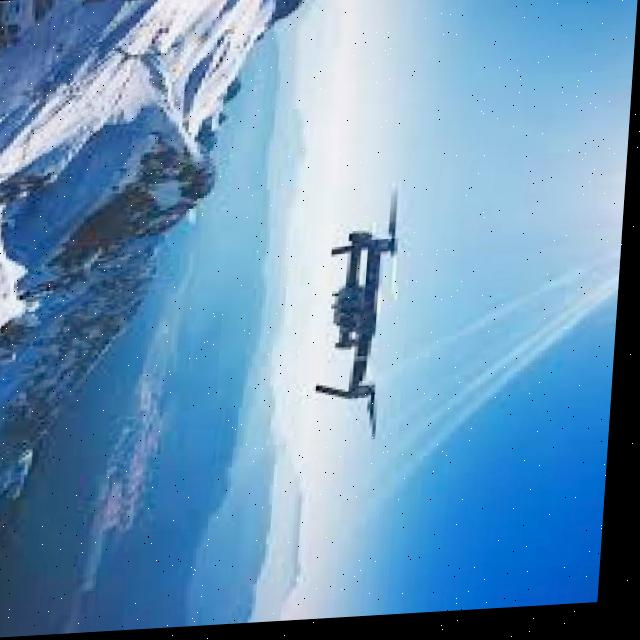drone: (296, 170, 430, 459)
